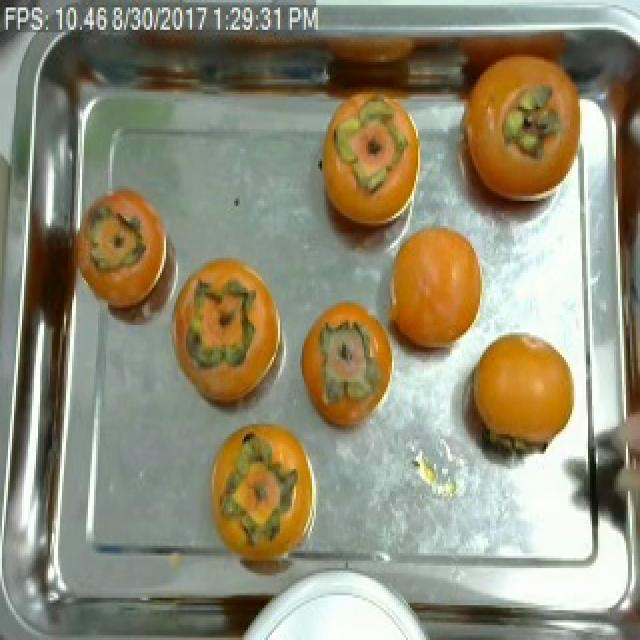Fruit: (444, 27, 584, 236), (376, 208, 500, 377), (200, 410, 328, 570), (164, 248, 288, 412), (308, 92, 428, 260), (454, 322, 578, 469), (292, 290, 400, 447), (80, 176, 178, 318)
